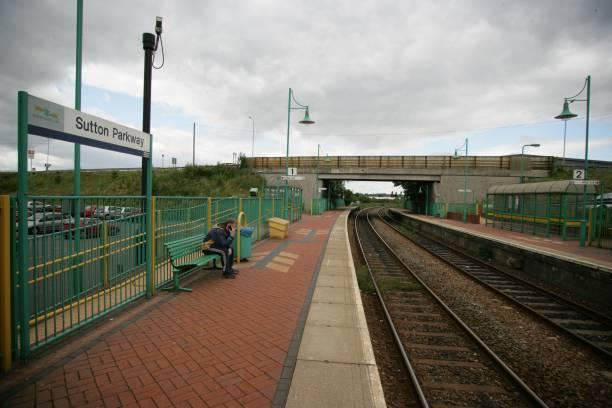camera: (247, 181, 263, 202)
